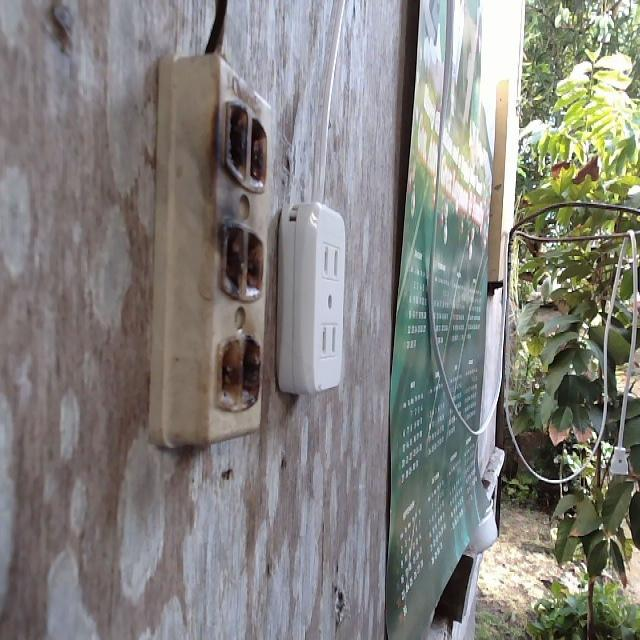-: (208, 90, 265, 422)
